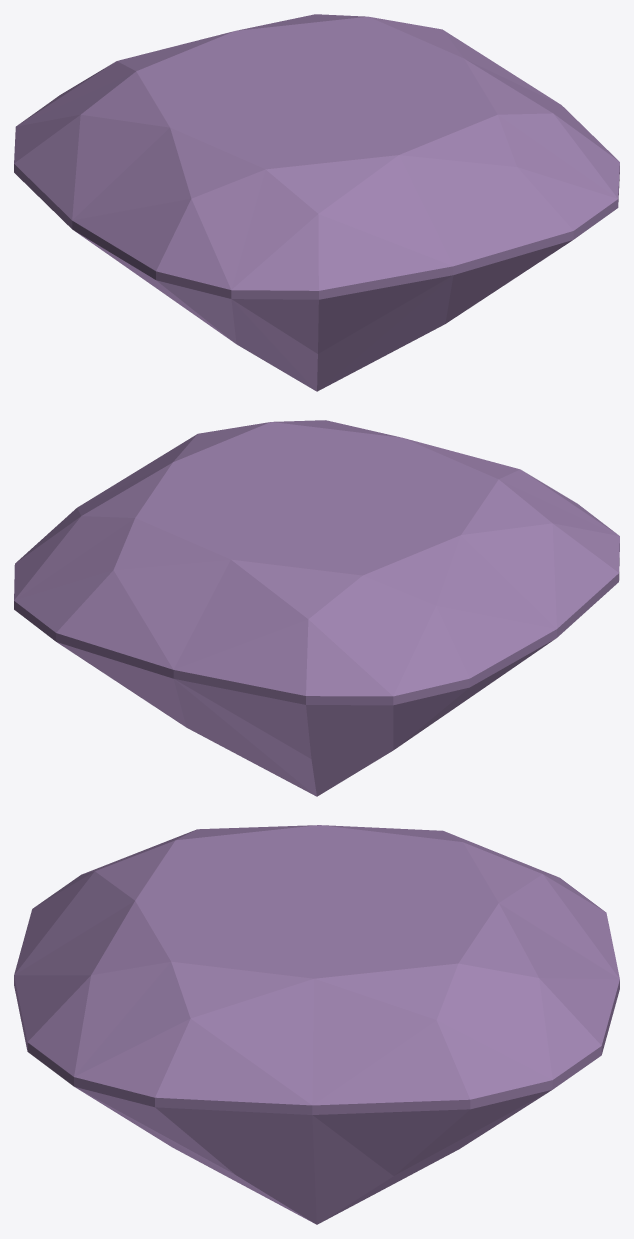
The model's file is stone-spinel.glb.
3 renders of one model, top to bottom at view 1: azimuth 30°, elevation 25°; view 2: azimuth 150°, elevation 25°; view 3: azimuth 270°, elevation 25°, orthographic. The views are drawn at different scales.
Visible parts, largest first — view 1: Gemstone Spinel; view 2: Gemstone Spinel; view 3: Gemstone Spinel.
Boxes of the visible parts, left/top/right/bottom form: Gemstone Spinel: left=14, top=14, right=619, bottom=391; Gemstone Spinel: left=14, top=420, right=619, bottom=796; Gemstone Spinel: left=14, top=825, right=619, bottom=1224.
Bounding box in the file's own units: 2 × 1.18 × 2.
